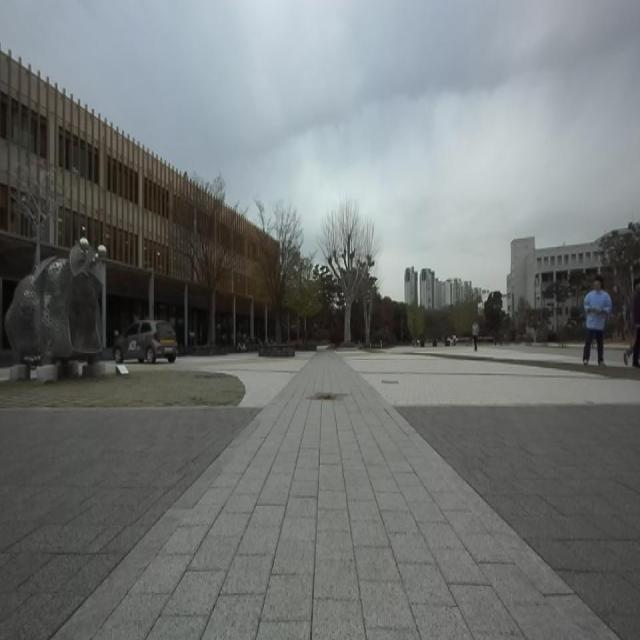sidewalk: (56, 353, 616, 639)
